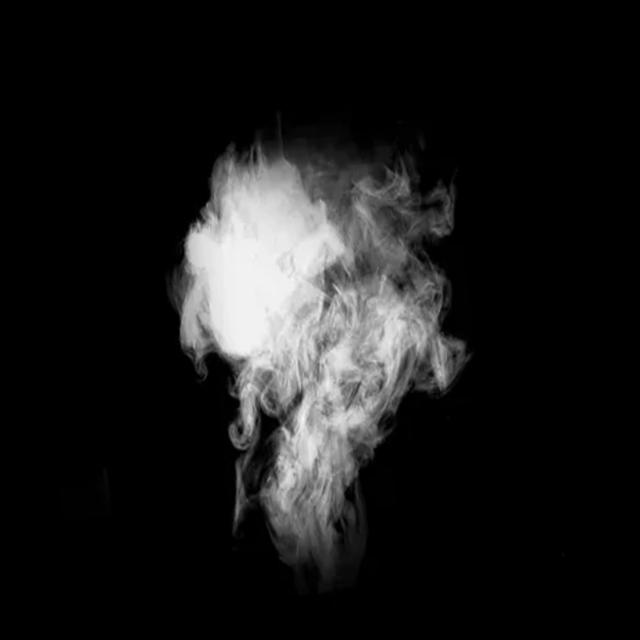Smoke: (163, 127, 485, 575)
